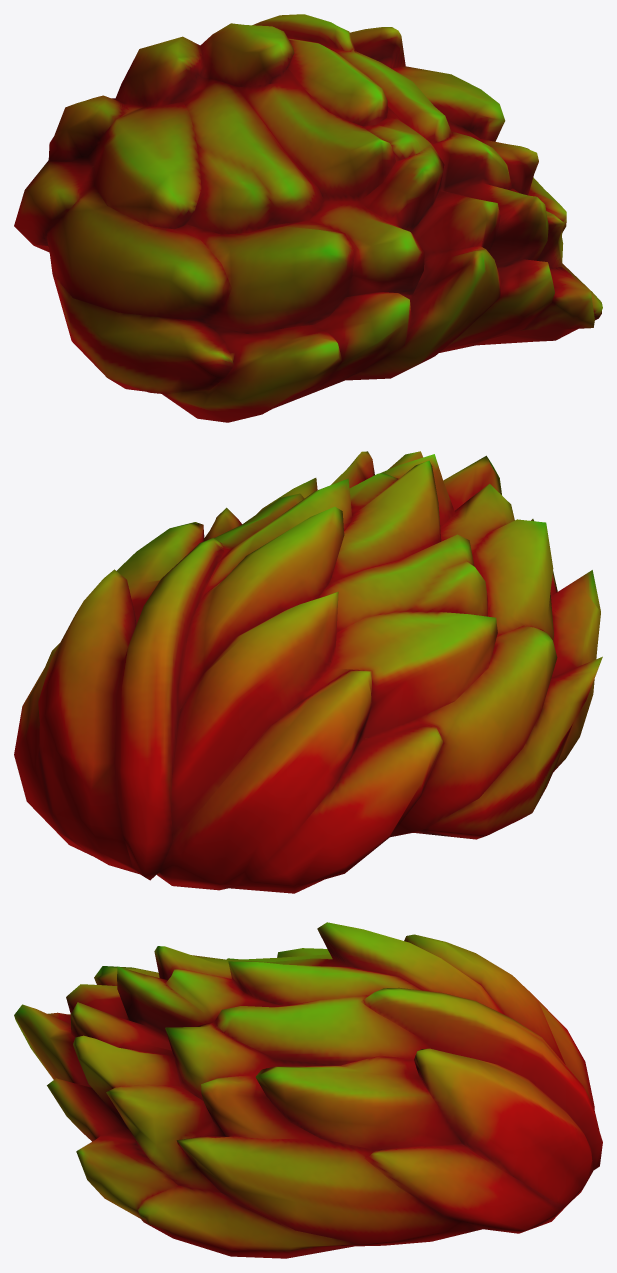
The model's file is FrontHair_Fohawk.obj.
3 views of the same model, one above another, from view 1: azimuth 30°, elevation 25°; view 2: azimuth 150°, elevation 25°; view 3: azimuth 270°, elevation 25° (orthographic). The views are drawn at different scales.
Visible parts, largest first — view 1: FrontHair_Fohawk_0; view 2: FrontHair_Fohawk_0; view 3: FrontHair_Fohawk_0.
Part boxes in pixels (x1=…): FrontHair_Fohawk_0: x1=14, y1=14, x2=602, y2=422; FrontHair_Fohawk_0: x1=14, y1=451, x2=602, y2=893; FrontHair_Fohawk_0: x1=14, y1=922, x2=602, y2=1258.
Size of the model in its own units: 0.2002 by 0.1284 by 0.2714.
1 material, 1 textured.
